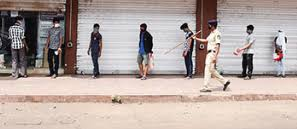Social Distance: (3, 10, 297, 91)
